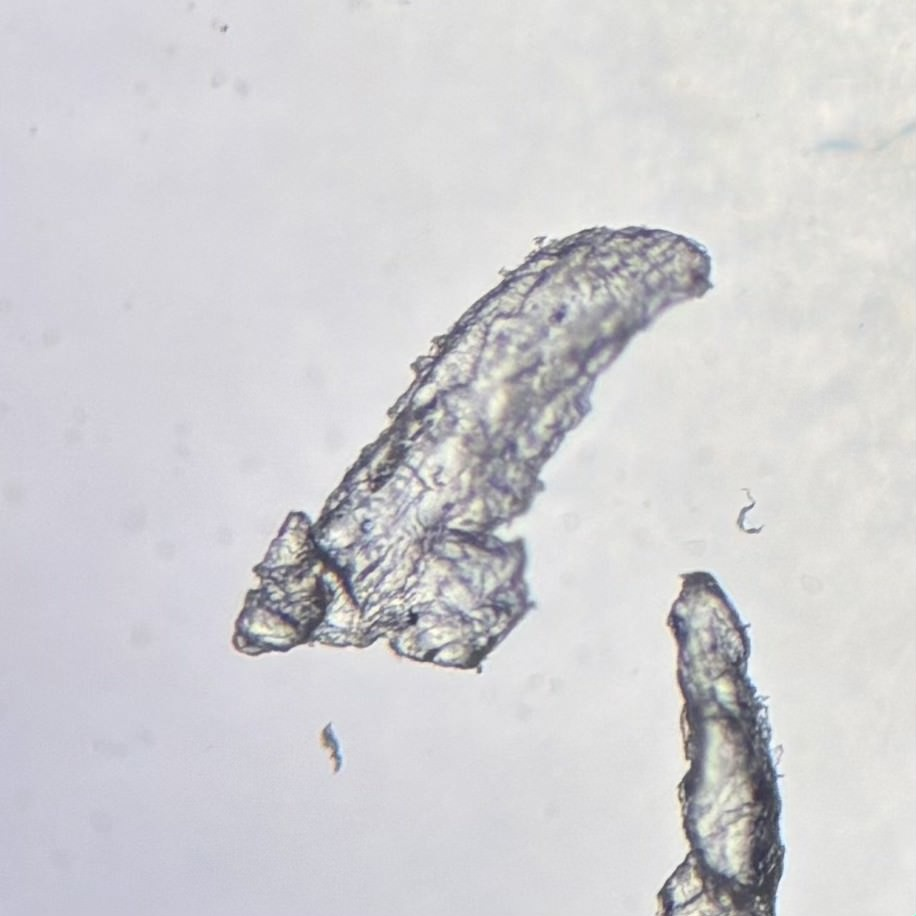microplastic: (233, 220, 712, 675), (655, 568, 786, 916)
